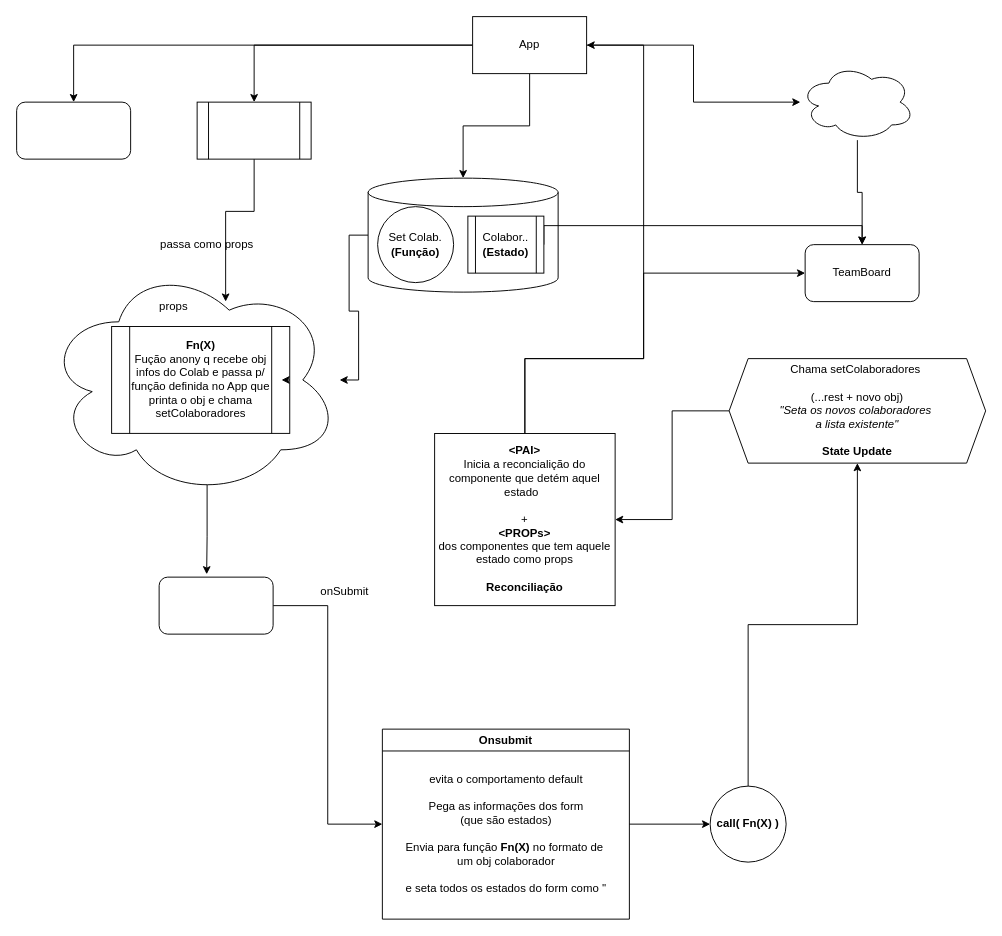
This 1002x936 diagram has some shape labels left out. Here are the shapes that lost their labels. From the top down, the box of each, then its label:
(799, 63, 914, 140): props Colaboradores
(16, 101, 131, 159): Banner
(196, 101, 311, 159): var Lista com nomes de Times
(158, 576, 273, 634): Form
